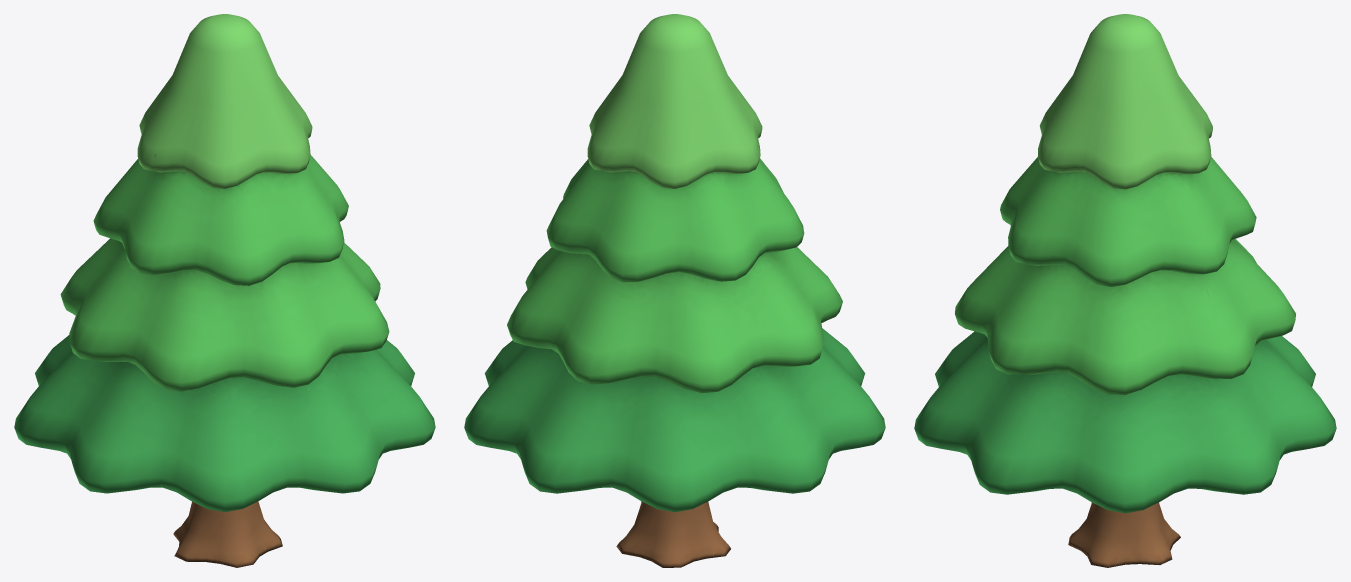
The model's file is tree_pine.glb.
3 views of the same model, side by side, from view 1: azimuth 30°, elevation 25°; view 2: azimuth 150°, elevation 25°; view 3: azimuth 270°, elevation 25° (orthographic).
Parts seen in each view (by area): view 1: tree_pine; view 2: tree_pine; view 3: tree_pine.
Part boxes in pixels (box(x1,y1,x2,y2)): tree_pine: box(14, 14, 435, 567); tree_pine: box(464, 14, 885, 567); tree_pine: box(914, 14, 1336, 567).
Bounding box in the file's own units: 2.71 × 3.76 × 2.74.
4 materials, 4 textured.
